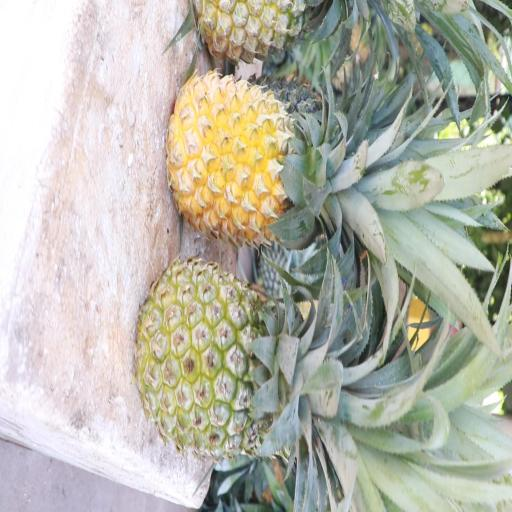------------------------------: (141, 265, 331, 454)
Pineapple - v8 v1: (176, 69, 342, 229)
